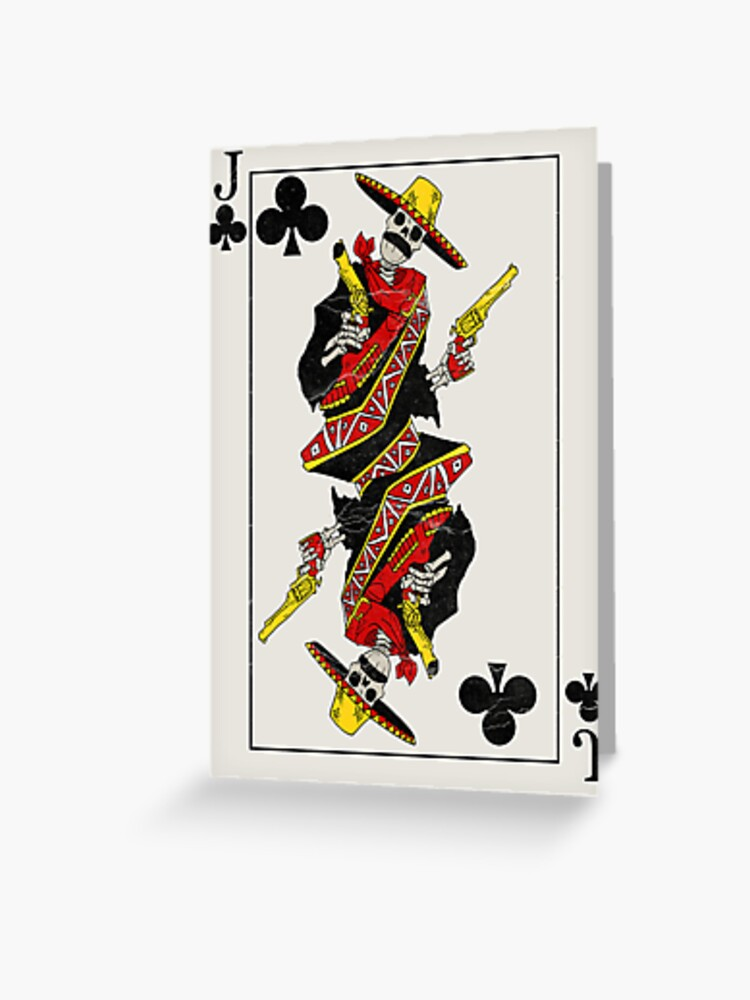jack of clubs: (214, 122, 602, 803)
